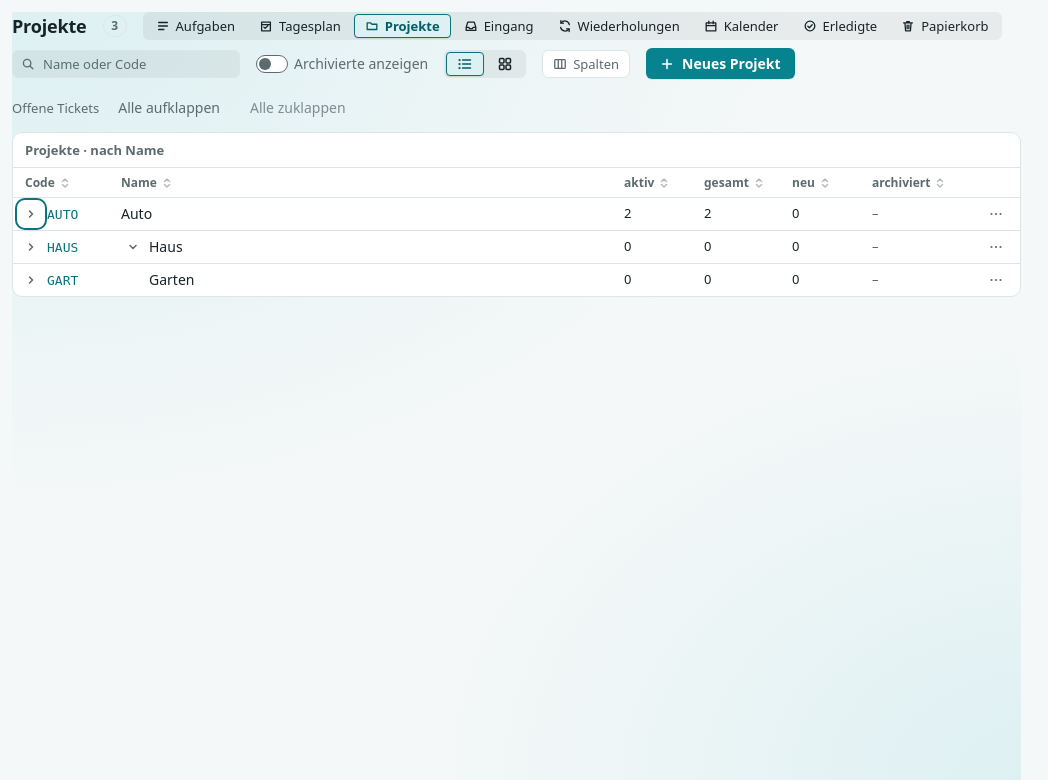
Test: open tickets in the project list › opens a row to its open tickets with a disclosure; the focus stays on it
The width and height of the screenshot is (1048, 780).
Click the button named "Offene Tickets von „Auto“" at (31,214), box x1=19 y1=202 x2=43 y2=226
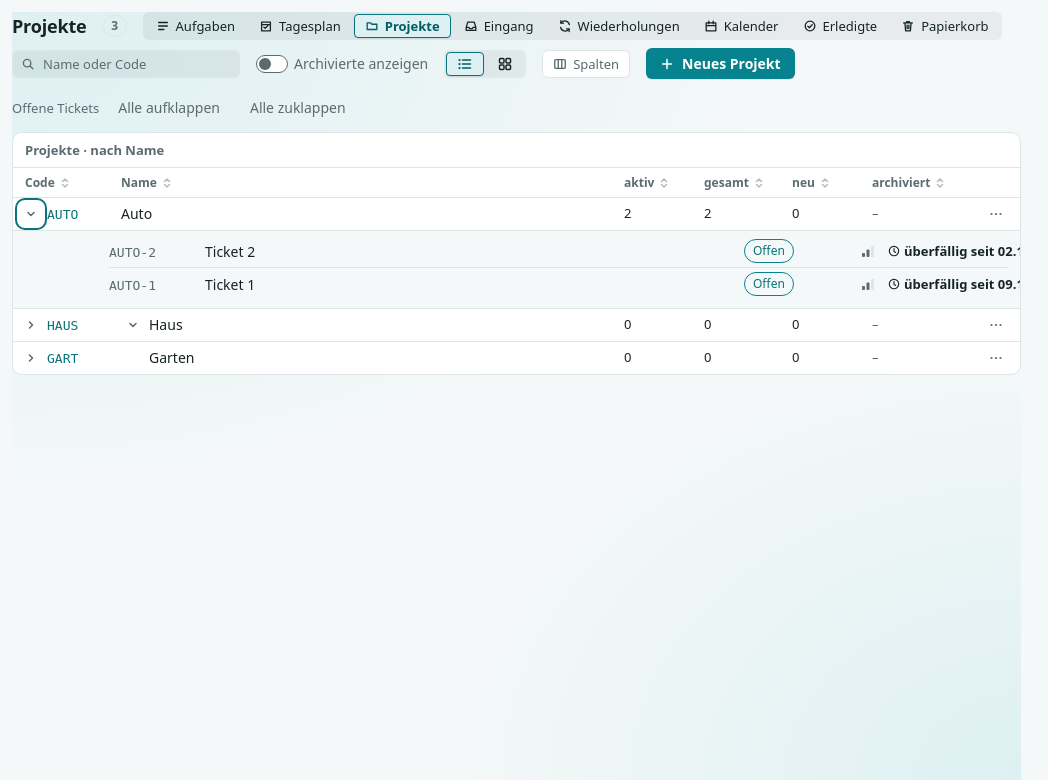
Now the button named "Offene Tickets von „Auto“" is expanded
Click the button named "Offene Tickets von „Auto“" at (31,214), box x1=19 y1=202 x2=43 y2=226
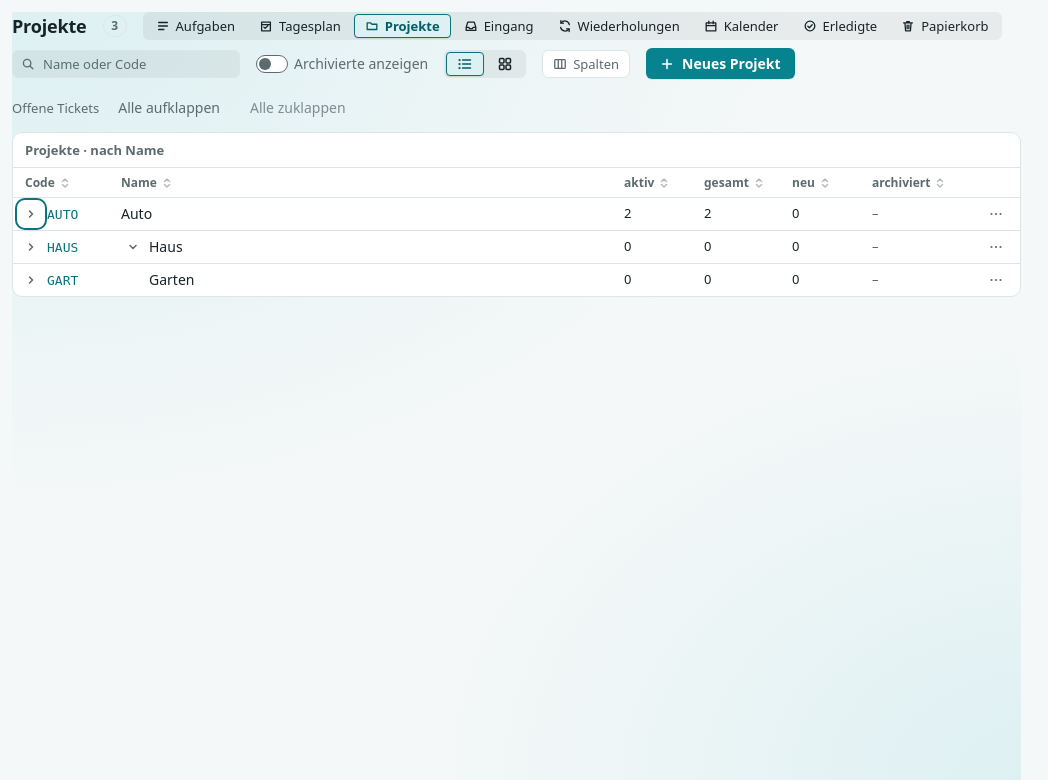
Now the button named "Offene Tickets von „Auto“" is collapsed, box x1=19 y1=202 x2=43 y2=226
Now the list is gone
